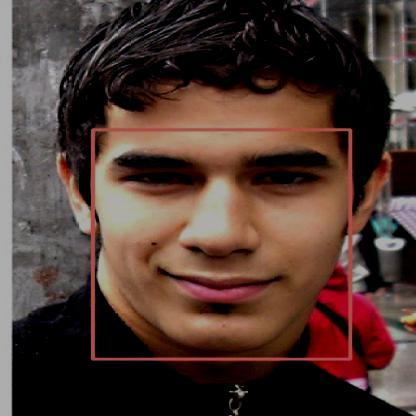without_mask: (92, 129, 350, 359)
